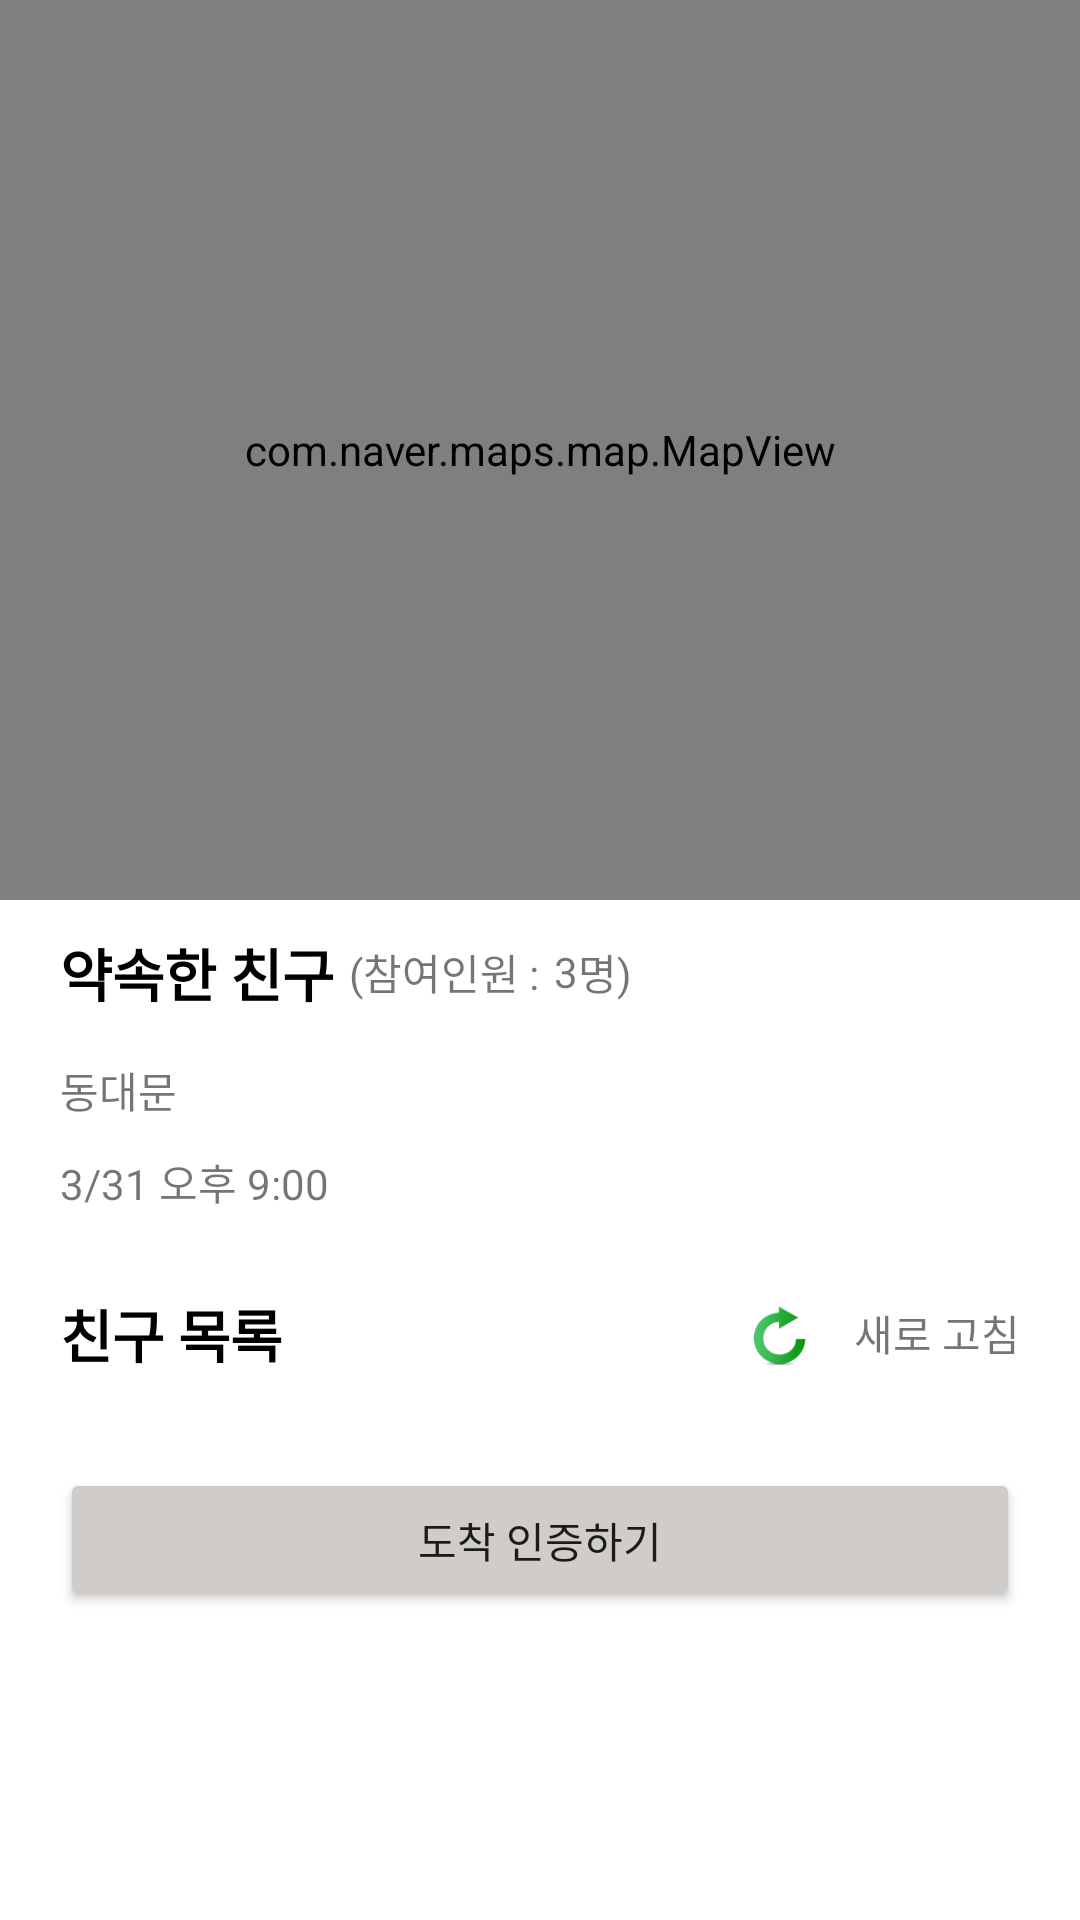

Screen size 1080px×1920px. Icon name, then its box in pixels as [left=x1, top=y1, right=x2, bottom=y2]:
refresh: [left=753, top=1306, right=806, bottom=1365]
